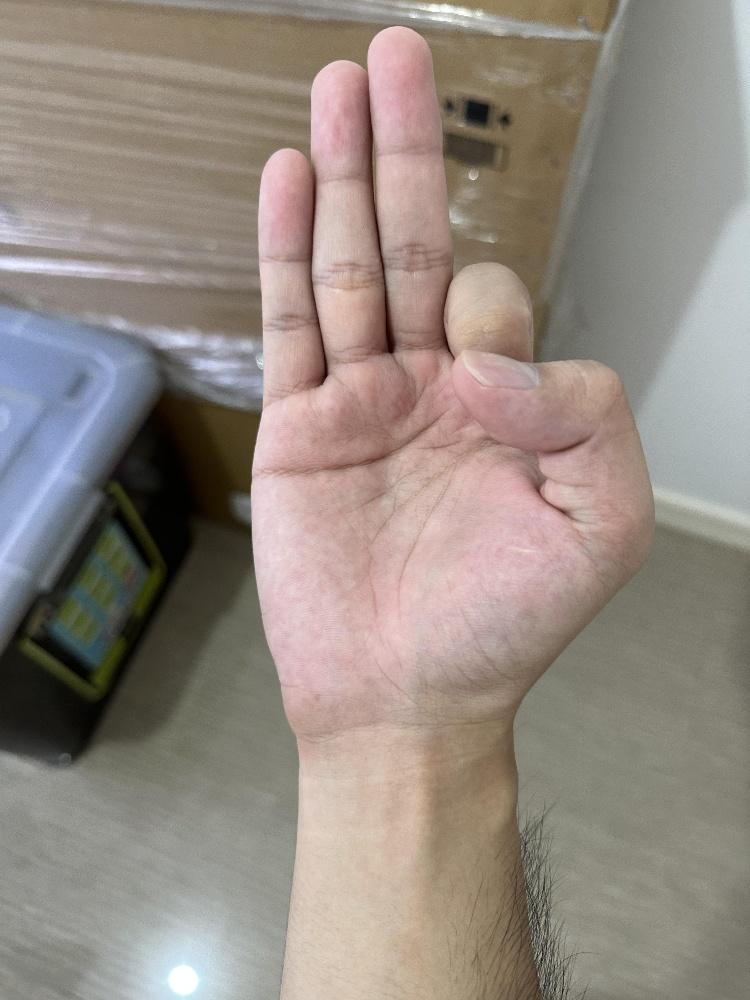f: (248, 21, 658, 748)
